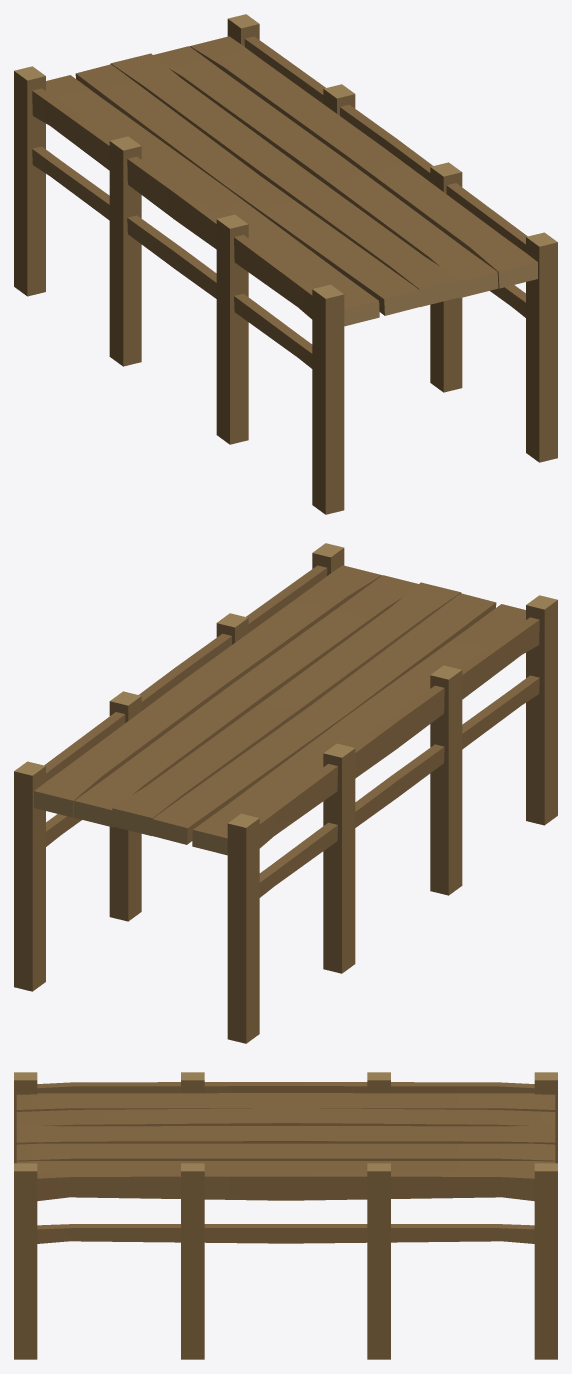
Rendered from Dock_FirstAge.glb.
3 views of the same model, one above another, from view 1: azimuth 30°, elevation 25°; view 2: azimuth 150°, elevation 25°; view 3: azimuth 270°, elevation 25° (orthographic). The views are drawn at different scales.
Parts seen in each view (by area): view 1: Dock_FirstAge; view 2: Dock_FirstAge; view 3: Dock_FirstAge.
Part boxes in pixels (<box>): Dock_FirstAge: <box>14,14,557,514</box>; Dock_FirstAge: <box>14,543,557,1043</box>; Dock_FirstAge: <box>14,1072,557,1359</box>.
Bounding box in the file's own units: 0.5243 × 0.4658 × 1.22.
